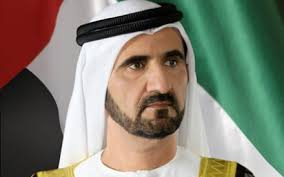middle_eastern_male: (92, 13, 193, 145)
